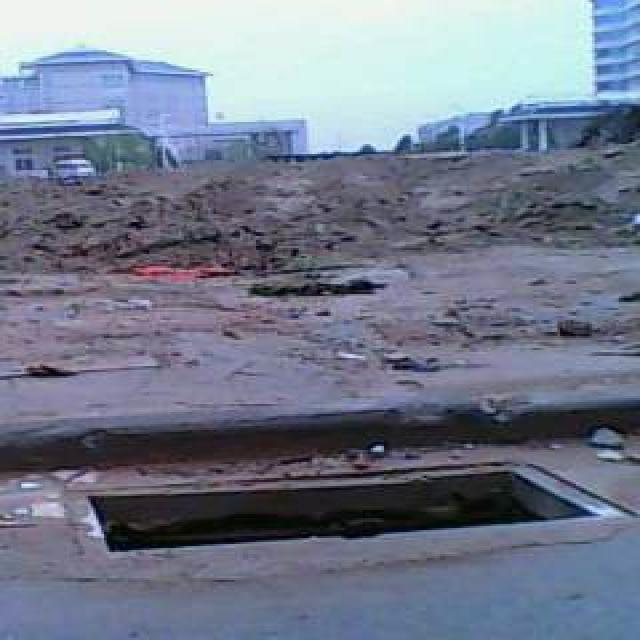manhole-cover: (62, 458, 616, 564)
